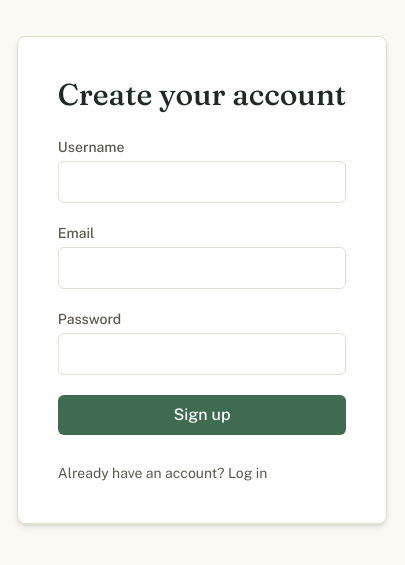
it: Signup › shows error message on failed signup
The image size is (405, 565).
In the field labelled "Username": coordinates (202, 182) [58,161,346,203], type "ijaz"
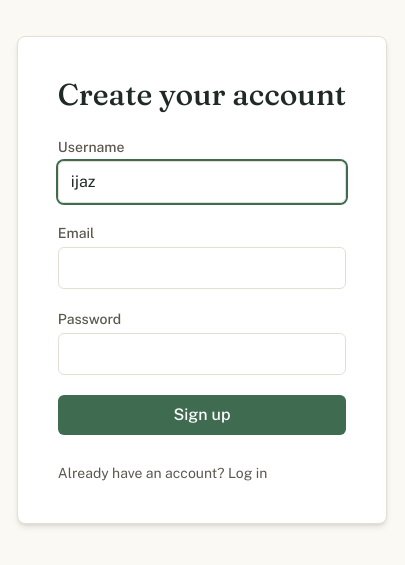
In the field labelled "Email": coordinates (202, 268) [58,247,346,289], type "a@b.com"
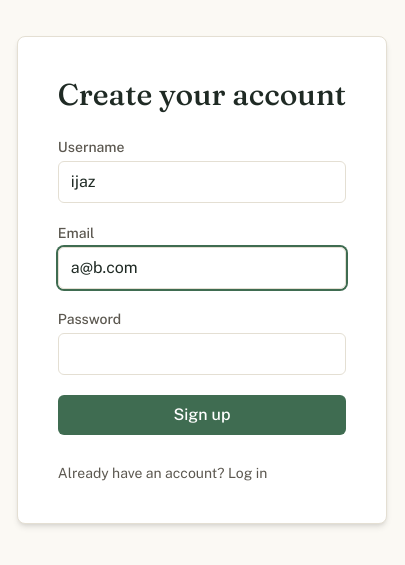
In the password field labelled "Password": coordinates (202, 354) [58,333,346,375], type "password123"
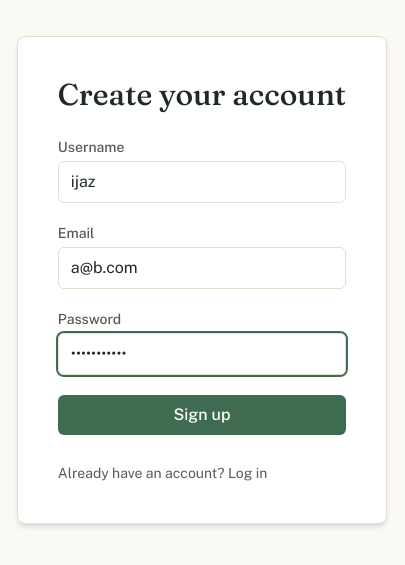
Click the button "Sign up": coordinates (202, 415) [58,395,346,435]
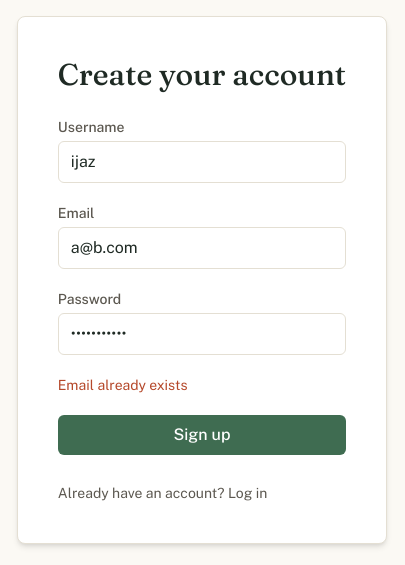
Expected: the text "Email already exists" is shown, [58,377,188,393]
